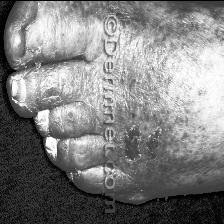Non-Cancerous Skin Condition: (10, 14, 94, 117), (125, 87, 180, 177)
